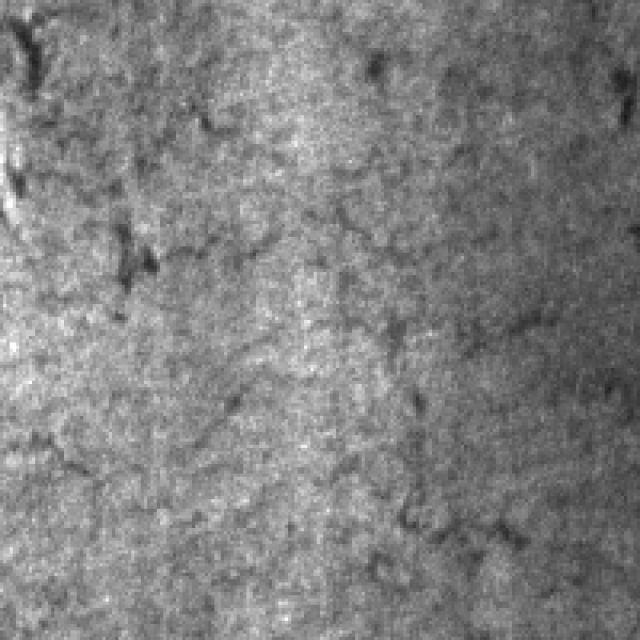crazing: (0, 74, 285, 314), (307, 141, 547, 371), (310, 406, 580, 550)
